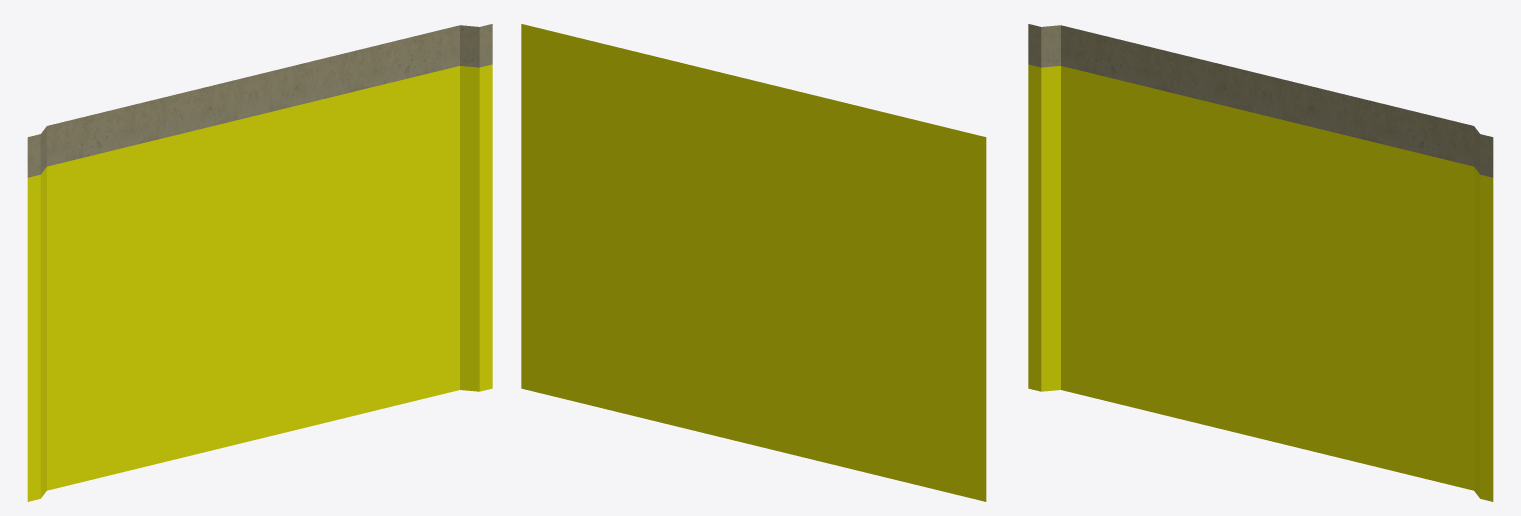
Rendered from brick-inset.glb.
The picture shows the model from 3 angles, left to right: view 1: azimuth 30°, elevation 25°; view 2: azimuth 150°, elevation 25°; view 3: azimuth 330°, elevation 25°; orthographic projection.
Parts seen in each view (by area): view 1: Brick_Inset; view 2: Brick_Inset; view 3: Brick_Inset.
Boxes of the visible parts, x1=… form: Brick_Inset: x1=27, y1=24, x2=492, y2=501; Brick_Inset: x1=521, y1=24, x2=986, y2=501; Brick_Inset: x1=1028, y1=24, x2=1493, y2=501.
Bounding box in the file's own units: 4 × 3 × 0.2.
2 materials, 1 textured.
